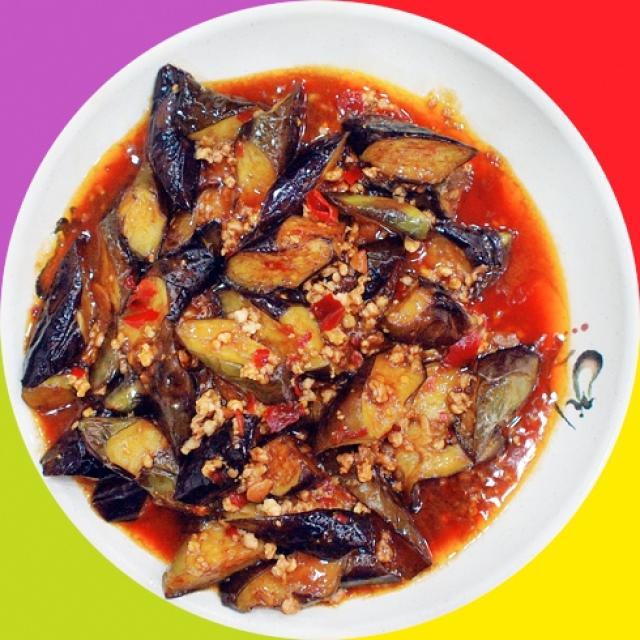鸡蛋料理: (19, 34, 592, 615)
